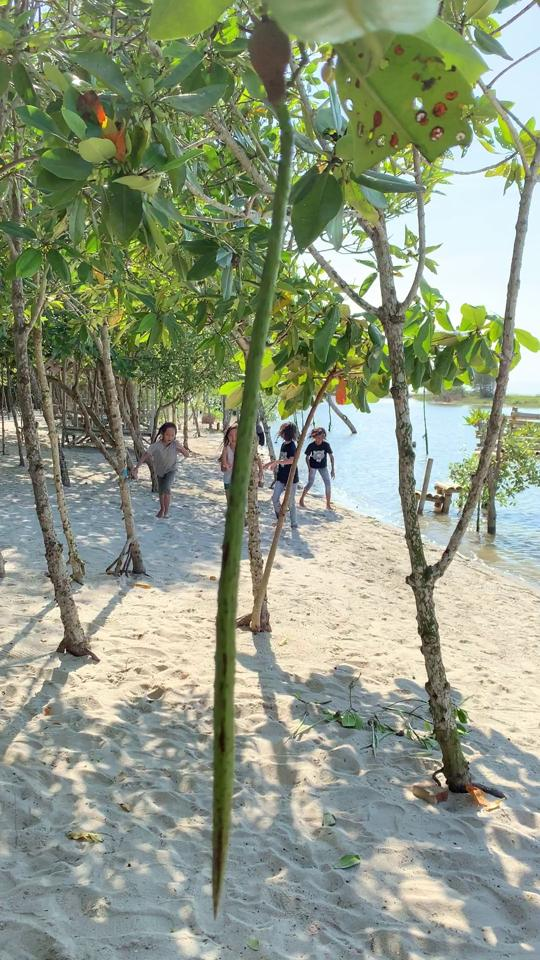mentah: (189, 21, 320, 926)
